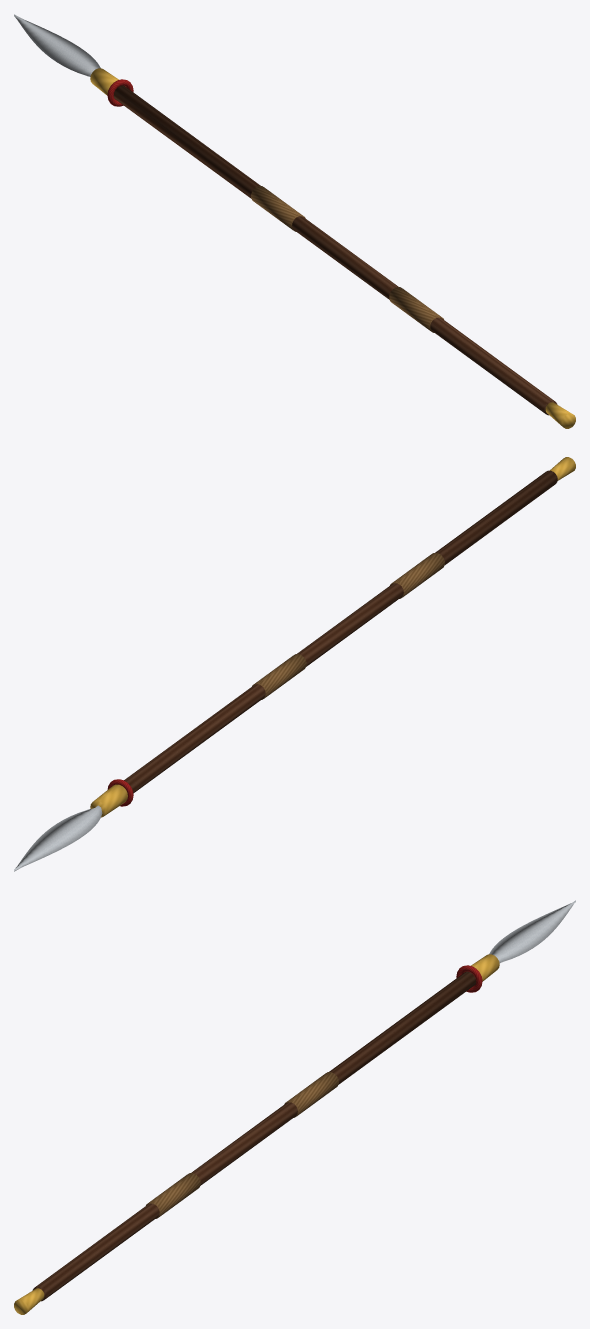
Rendered from kalari_spear.glb.
3 renders of one model, top to bottom at view 1: azimuth 30°, elevation 25°; view 2: azimuth 150°, elevation 25°; view 3: azimuth 330°, elevation 25°, orthographic.
Visible parts, largest first — view 1: Kalari_Kuntham_Spear; view 2: Kalari_Kuntham_Spear; view 3: Kalari_Kuntham_Spear.
Boxes of the visible parts, x1,y1,x2,y2 form: Kalari_Kuntham_Spear: (14,14,575,428); Kalari_Kuntham_Spear: (14,457,575,871); Kalari_Kuntham_Spear: (14,900,575,1314).
Size of the model in its own units: 0.0662 by 0.0502 by 1.93.
5 materials, 5 textured.
